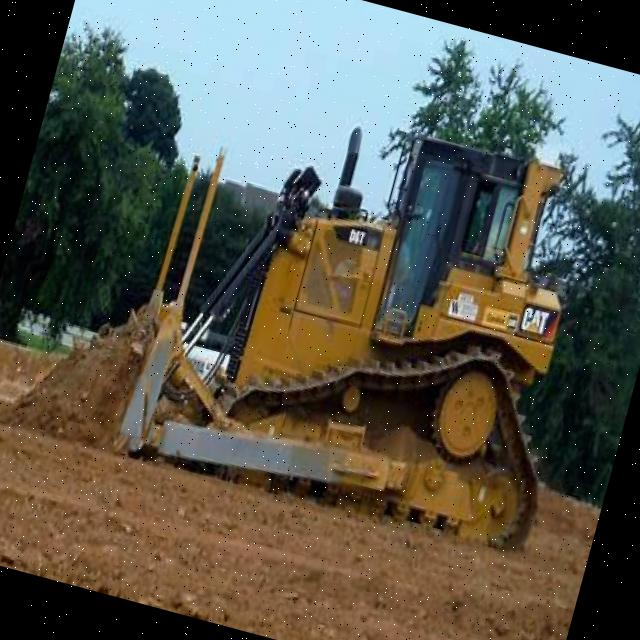Bulldozer: (51, 43, 628, 570)
